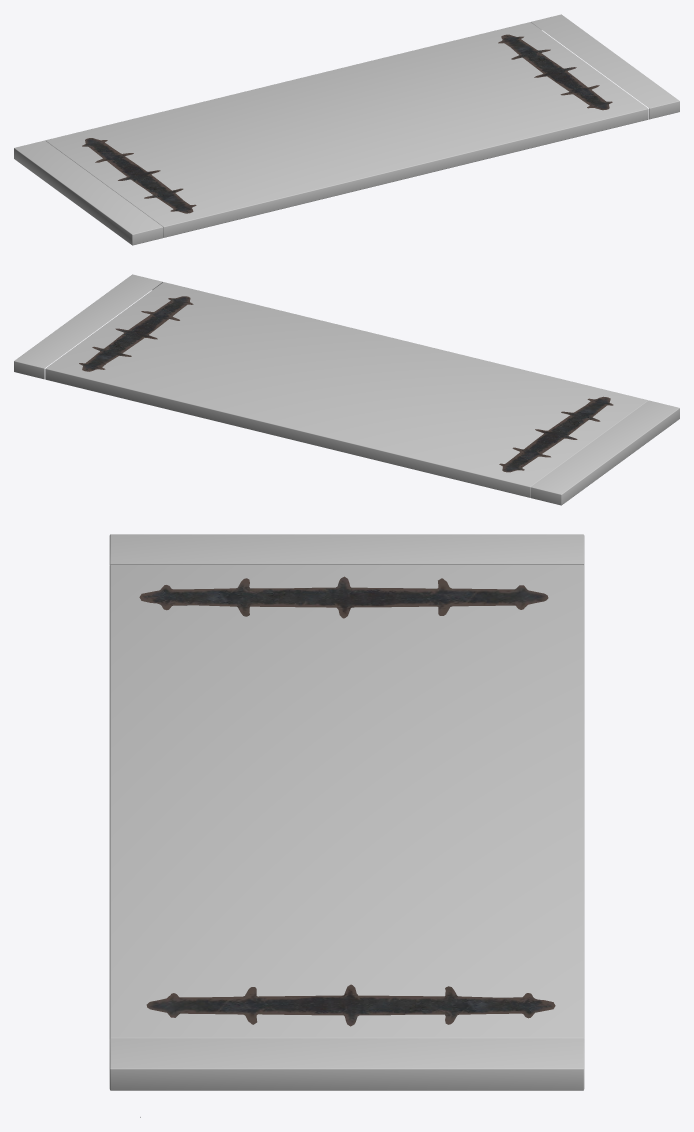
The model's file is table_2.fbx.
The picture shows the model from 3 angles, top to bottom: view 1: azimuth 30°, elevation 25°; view 2: azimuth 150°, elevation 25°; view 3: azimuth 270°, elevation 25°; orthographic projection. The views are drawn at different scales.
Visible parts, largest first — view 1: Cube, Metal_low; view 2: Cube, Metal_low; view 3: Cube, Metal_low.
Part boxes in pixels (bbox=[...]): Cube: bbox=[14, 14, 679, 245]; Metal_low: bbox=[82, 34, 612, 213]; Cube: bbox=[14, 274, 679, 505]; Metal_low: bbox=[79, 296, 613, 472]; Cube: bbox=[109, 534, 584, 1117]; Metal_low: bbox=[139, 576, 555, 1026].
Bounding box in the file's own units: 715 × 57.64 × 268.
